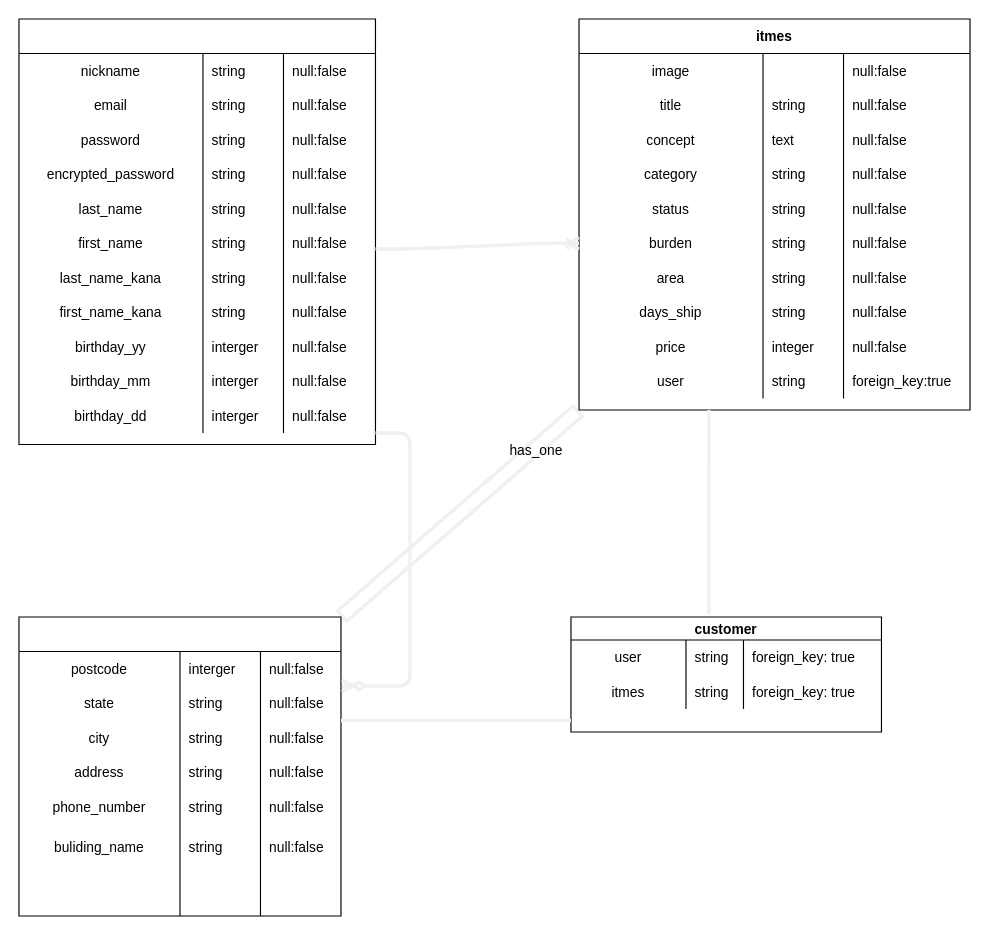
The diagram is 989 pixels wide and 935 high, and some of its shapes have lost their labels. The box of each missing label's shape, as (x1, y1, x2, y2) in pixels:
delivery: (18, 616, 341, 916)
users: (18, 18, 375, 444)
